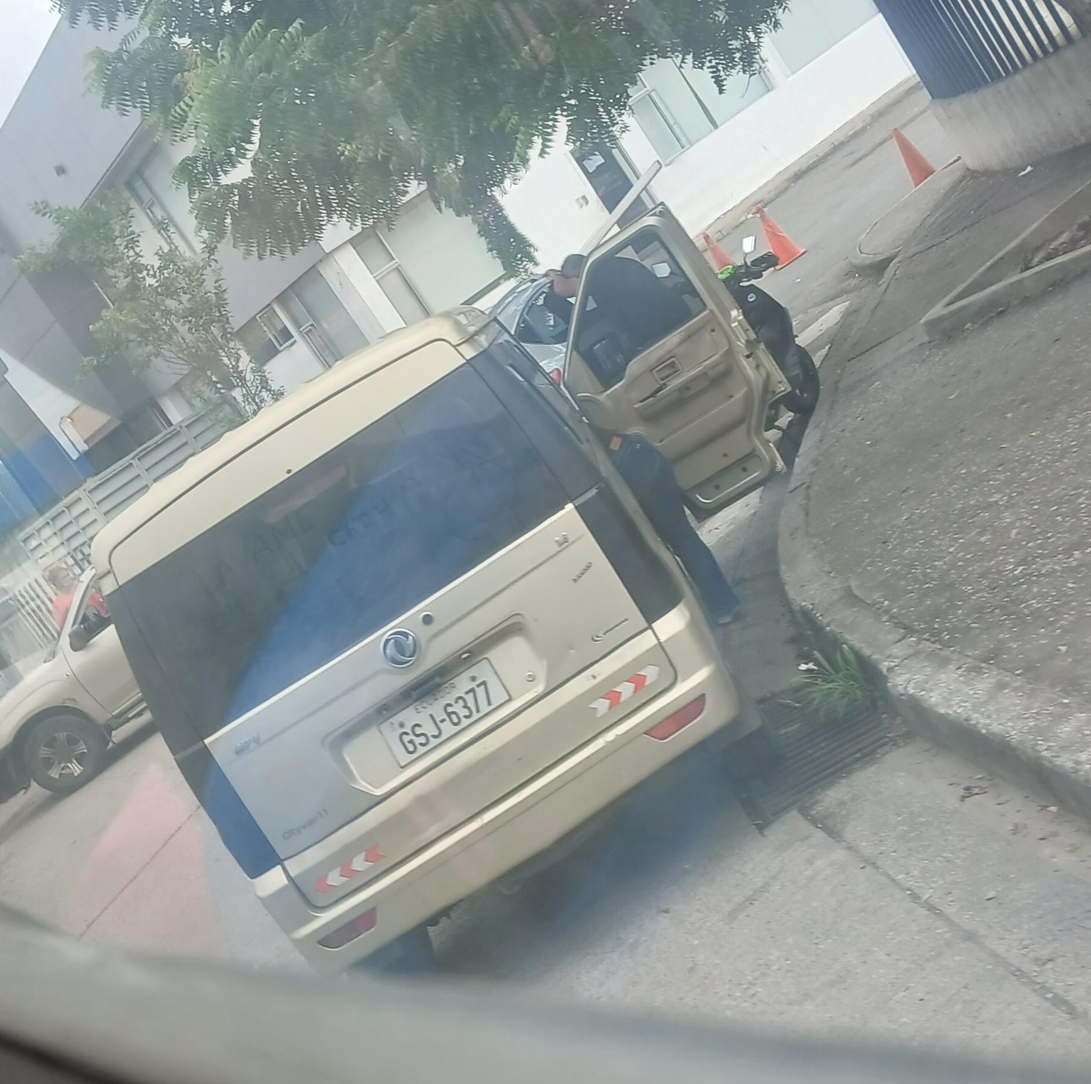license_plate: (375, 658, 512, 767)
